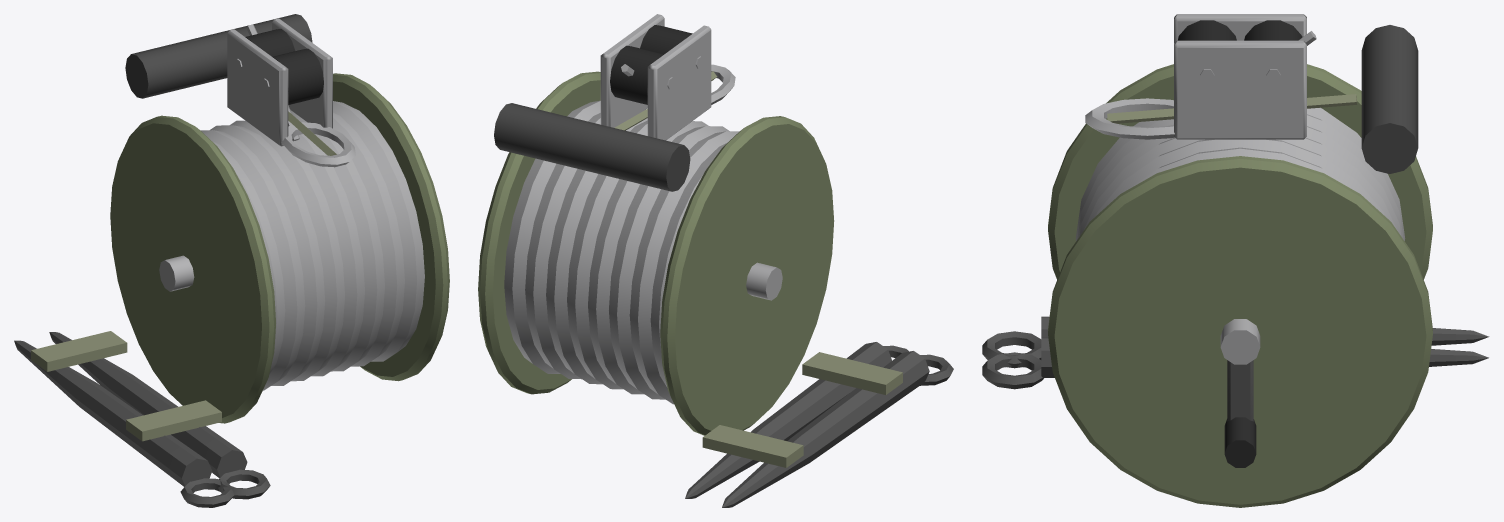
The model's file is zipline_kit.glb.
The picture shows the model from 3 angles, left to right: view 1: azimuth 30°, elevation 25°; view 2: azimuth 150°, elevation 25°; view 3: azimuth 270°, elevation 25°; orthographic projection. The views are drawn at different scales.
Visible parts, largest first — view 1: body; view 2: body; view 3: body.
Boxes of the visible parts, <box> form: body: <box>14,14,449,507</box>; body: <box>478,14,953,507</box>; body: <box>982,14,1489,507</box>.
Size of the model in its own units: 0.2884 by 0.283 by 0.3054.
